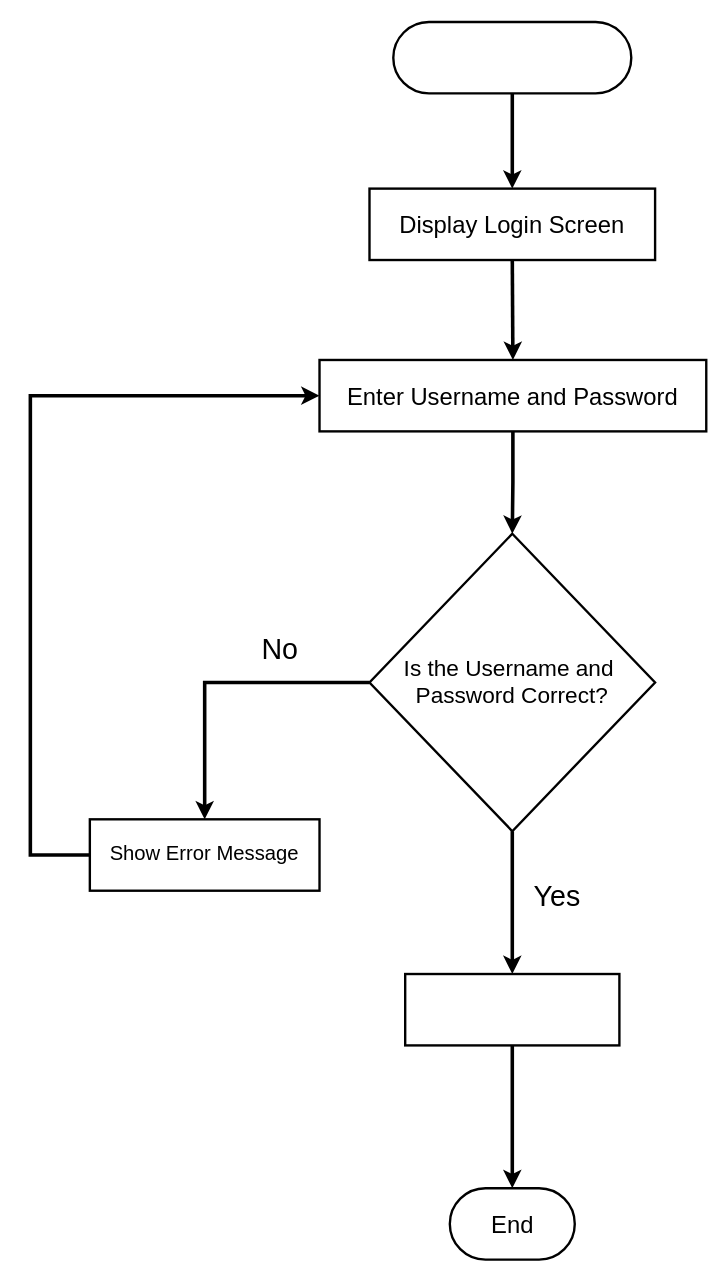
Some shapes in this 728 by 1280 pixel diagram are drawn without their labels. Here are the shapes that lost their labels. From the top down, the centre of each, then its label:
At point (512, 57): "Start Program".
At point (511, 1009): "Display Options".
